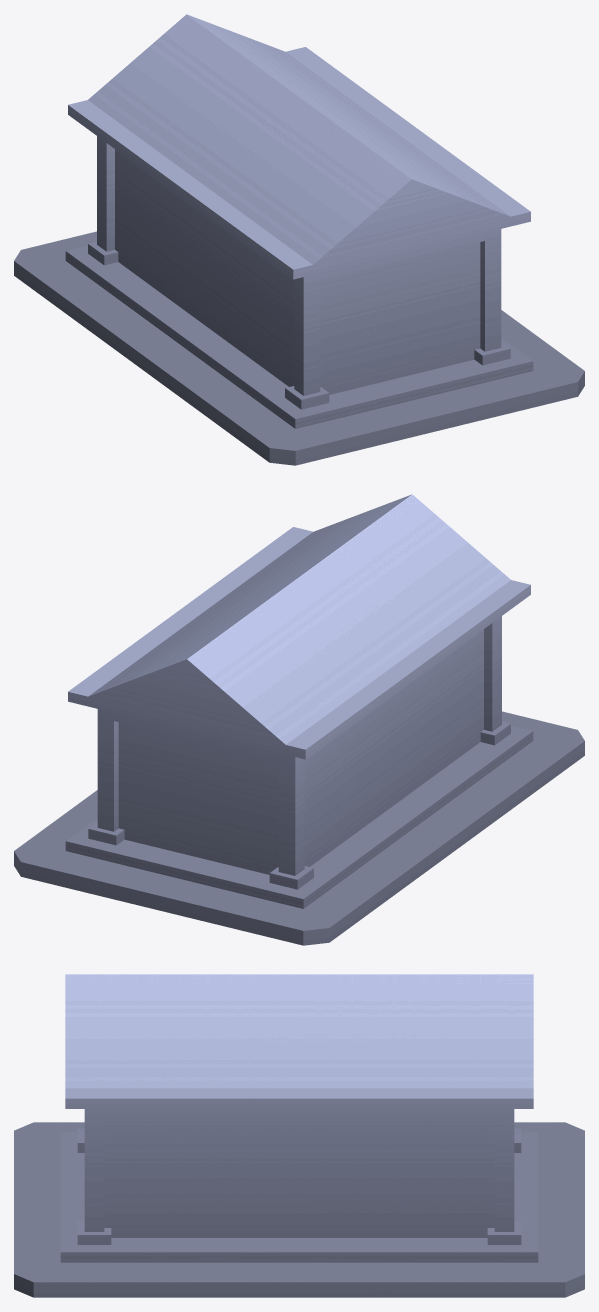
File: crypt.glb
The picture shows the model from 3 angles, top to bottom: view 1: azimuth 30°, elevation 25°; view 2: azimuth 150°, elevation 25°; view 3: azimuth 270°, elevation 25°; orthographic projection. The views are drawn at different scales.
Parts seen in each view (by area): view 1: crypt; view 2: crypt; view 3: crypt.
Part boxes in pixels (x1,y1,x2,y2): crypt: [14, 14, 584, 465]; crypt: [14, 494, 584, 945]; crypt: [14, 974, 584, 1297].
Bounding box in the file's own units: 0.7504 × 0.532 × 1.13.
1 material, 1 textured.
